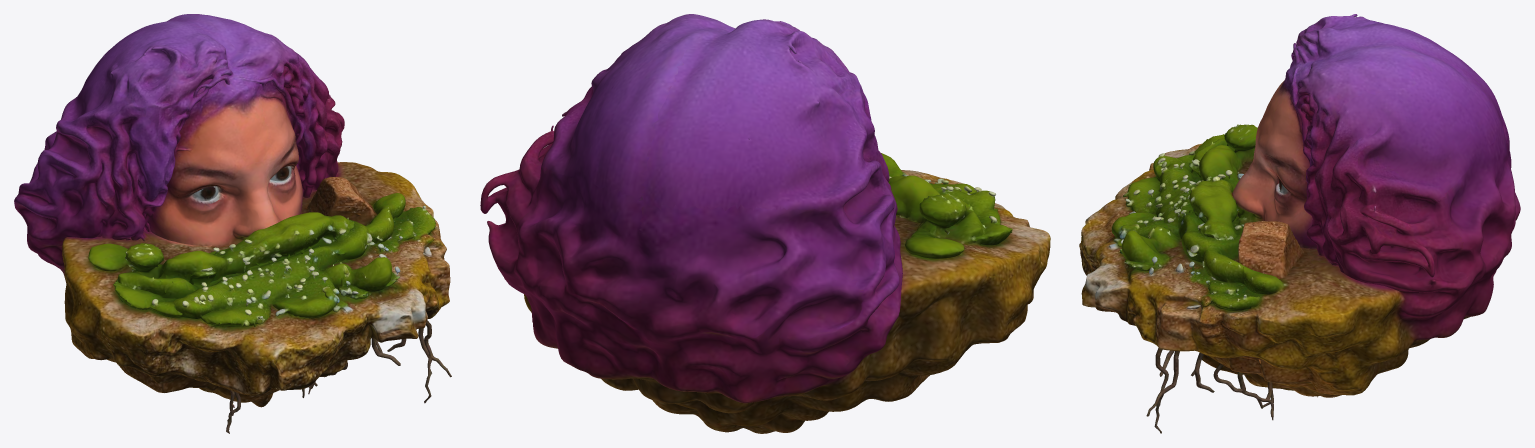
File: HEAD_EXP.glb
3 renders of one model, left to right at view 1: azimuth 30°, elevation 25°; view 2: azimuth 150°, elevation 25°; view 3: azimuth 270°, elevation 25°, orthographic. The views are drawn at different scales.
Visible parts, largest first — view 1: tripo_node_b0f4f4aa-cbd2-4033-aca5-8bd7dfaccea4; view 2: tripo_node_b0f4f4aa-cbd2-4033-aca5-8bd7dfaccea4; view 3: tripo_node_b0f4f4aa-cbd2-4033-aca5-8bd7dfaccea4.
Part boxes in pixels (x1,y1,x2,y2): tripo_node_b0f4f4aa-cbd2-4033-aca5-8bd7dfaccea4: (14, 14, 451, 433); tripo_node_b0f4f4aa-cbd2-4033-aca5-8bd7dfaccea4: (480, 14, 1050, 433); tripo_node_b0f4f4aa-cbd2-4033-aca5-8bd7dfaccea4: (1079, 14, 1520, 433).
Size of the model in its own units: 0.9941 by 0.8831 by 0.9963.
Materials: 1 (1 with a texture image).
